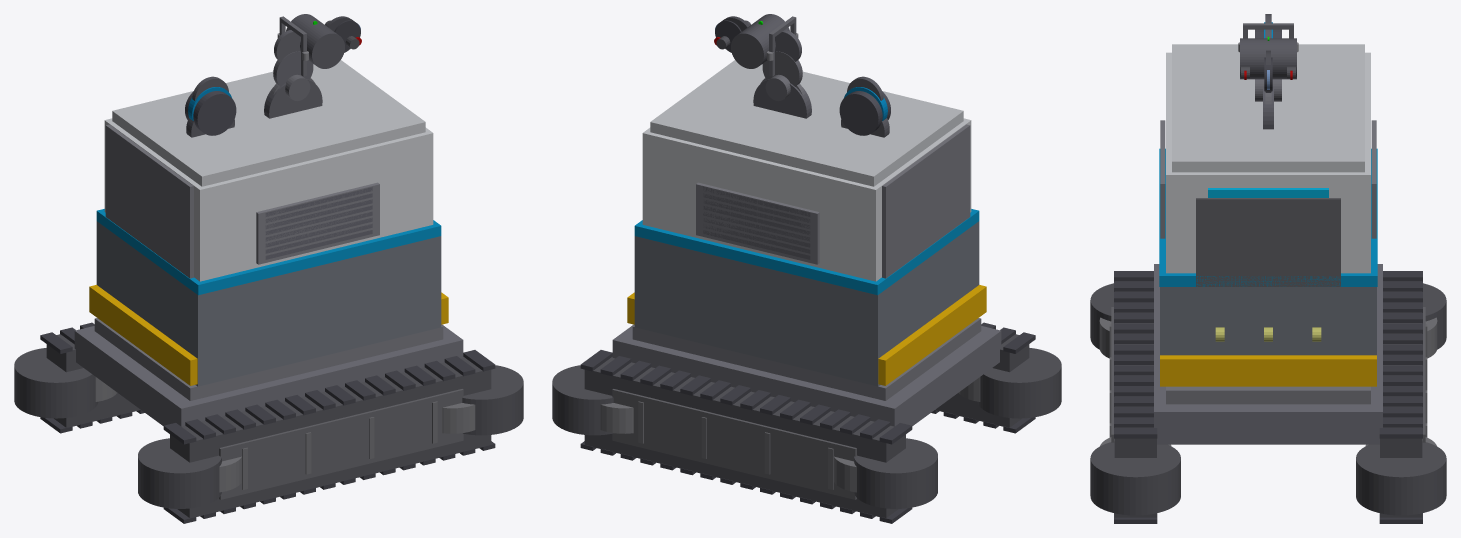
Rendered from inspection_robot.glb.
The picture shows the model from 3 angles, left to right: view 1: azimuth 30°, elevation 25°; view 2: azimuth 150°, elevation 25°; view 3: azimuth 270°, elevation 25°; orthographic projection. The views are drawn at different scales.
Parts seen in each view (by area): view 1: part_0092, part_0094, part_0093, part_0040, part_0090, part_0000, part_0117, part_0091, part_0116, part_0002, part_0098, part_0047 (+10 smaller); view 2: part_0092, part_0094, part_0093, part_0085, part_0090, part_0045, part_0117, part_0107, part_0091, part_0116, part_0047, part_0002 (+10 smaller); view 3: part_0094, part_0092, part_0096, part_0090, part_0093, part_0118, part_0001, part_0046, part_0091, part_0116, part_0129, part_0000 (+34 smaller).
Part boxes in pixels (x1,y1,x2,y2): part_0092: (96,221,441,386); part_0094: (112,60,425,186); part_0093: (104,118,433,281); part_0040: (219,389,463,499); part_0090: (74,324,463,426); part_0000: (170,357,491,517); part_0117: (105,124,193,278); part_0091: (94,318,443,400); part_0116: (96,209,441,295); part_0002: (138,438,221,508); part_0098: (256,182,379,264); part_0047: (14,348,98,418); part_0092: (634,221,979,386); part_0094: (650,60,963,186); part_0093: (642,118,971,281); part_0085: (612,389,856,499); part_0090: (612,324,1001,426); part_0045: (584,357,905,517); part_0117: (882,124,970,278); part_0107: (696,182,819,264); part_0091: (632,318,981,400); part_0116: (634,209,979,295); part_0047: (854,438,937,508); part_0002: (977,348,1061,418); part_0094: (1172,44,1364,172); part_0092: (1160,287,1376,355); part_0096: (1196,198,1340,286); part_0090: (1154,264,1382,444); part_0093: (1166,52,1370,273); part_0118: (1160,355,1376,386); part_0001: (1090,441,1180,515); part_0046: (1356,441,1446,515); part_0091: (1166,386,1370,404); part_0116: (1159,148,1377,286); part_0129: (1240,38,1296,79); part_0000: (1114,281,1156,517).
Bounding box in the file's own units: 0.77 × 0.789 × 0.59.
